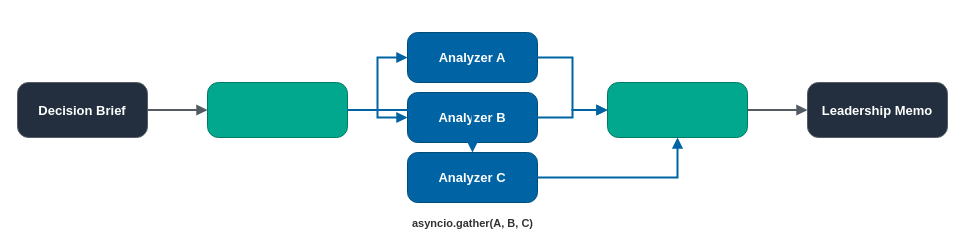
Image size: 965x251. Some labels were removed from this diagram. Here are the shapes that lost their labels. From the top down, the box of each, then its label:
(17, 17, 767, 47): Parallel Fork-Join: asyncio.gather → all 3 run simultaneously
(206, 82, 348, 138): Researcher
(606, 82, 748, 138): Synthesizer
